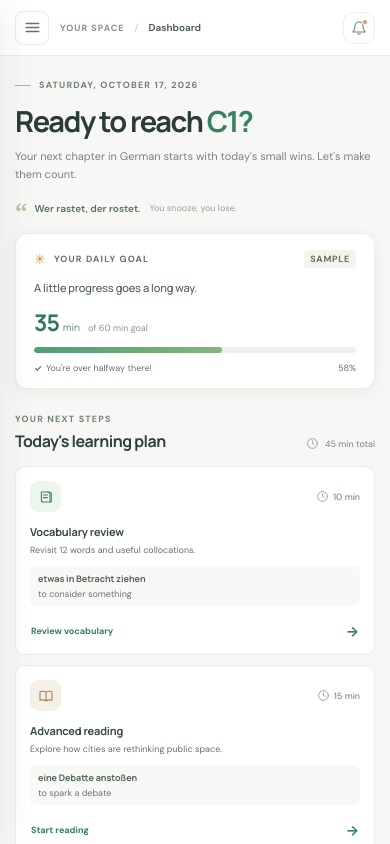
WortWise dashboard › opens the mobile navigation and explains unavailable modules
The image size is (390, 844).
Click the button named "Open navigation": (32, 28) [15,10,49,44]
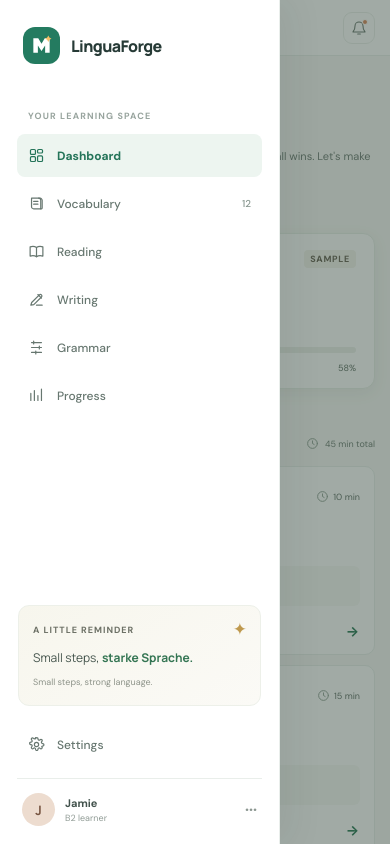
Now the button named "Open navigation" is expanded, box [15,10,49,44]
Click the button "Grammar": (140, 348) [17,326,262,369]
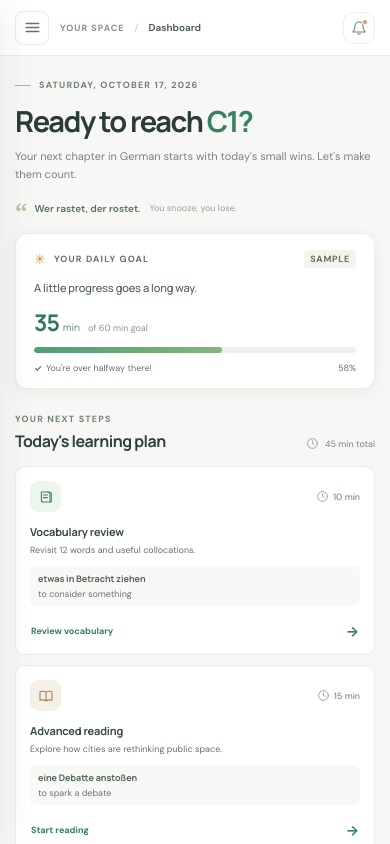
Now the button named "Open navigation" is collapsed, box [15,10,49,44]
